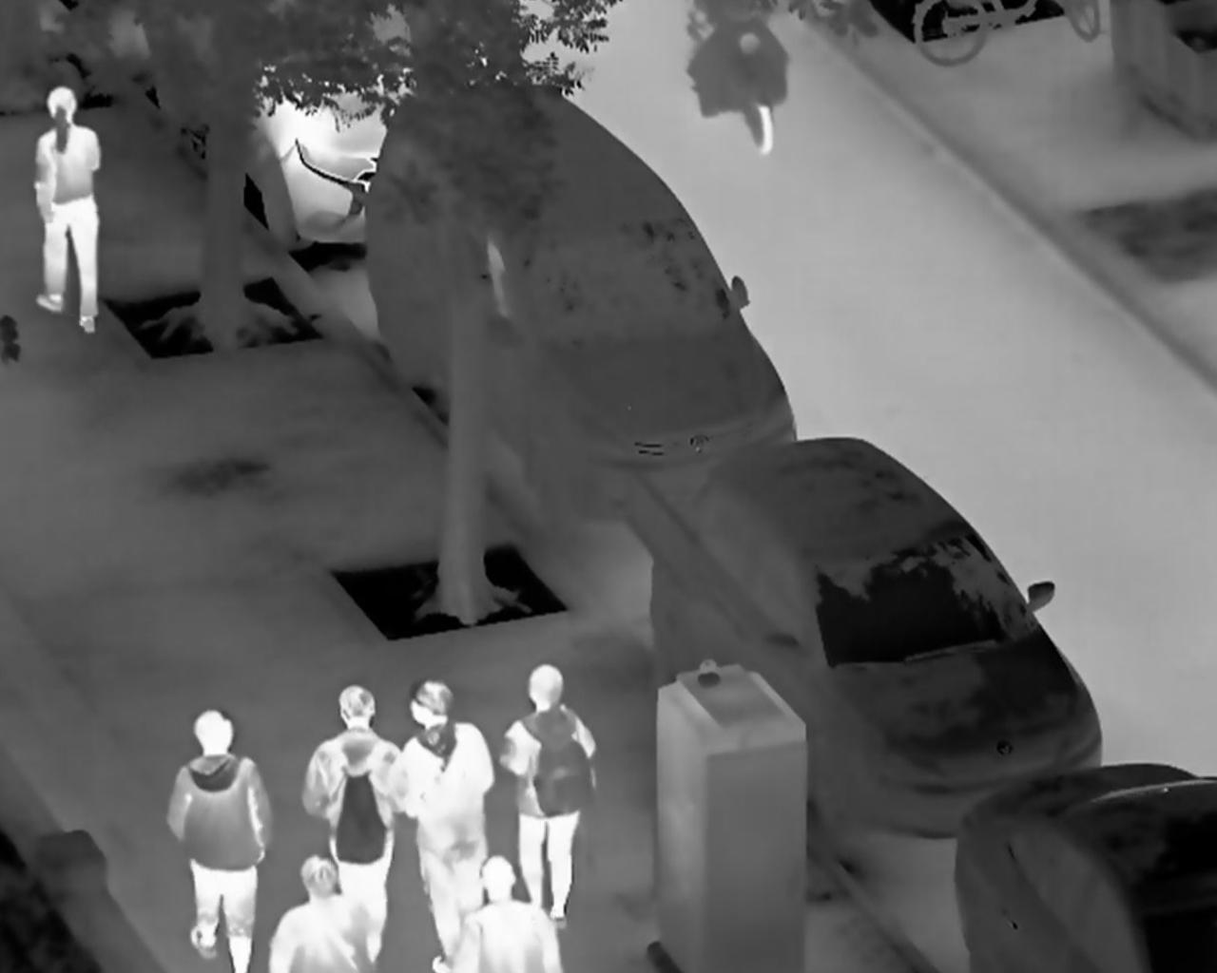person: (389, 679, 498, 973), (299, 683, 401, 965), (167, 707, 270, 973), (499, 661, 597, 929), (30, 86, 101, 337), (430, 848, 560, 973), (263, 852, 380, 968)
